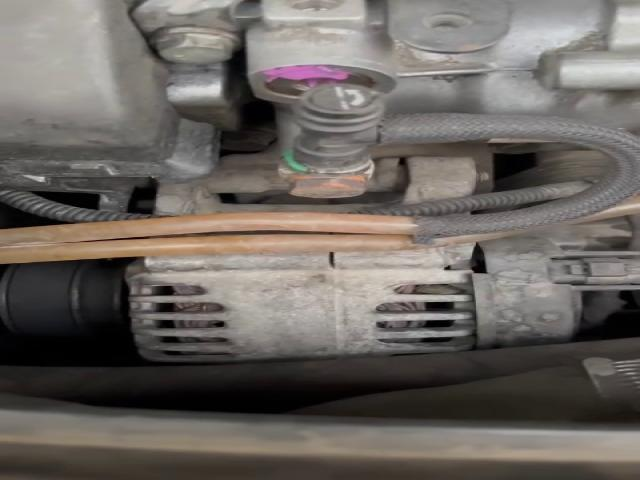alternator: (120, 229, 637, 364)
high_pressure_pump: (234, 1, 636, 130)
